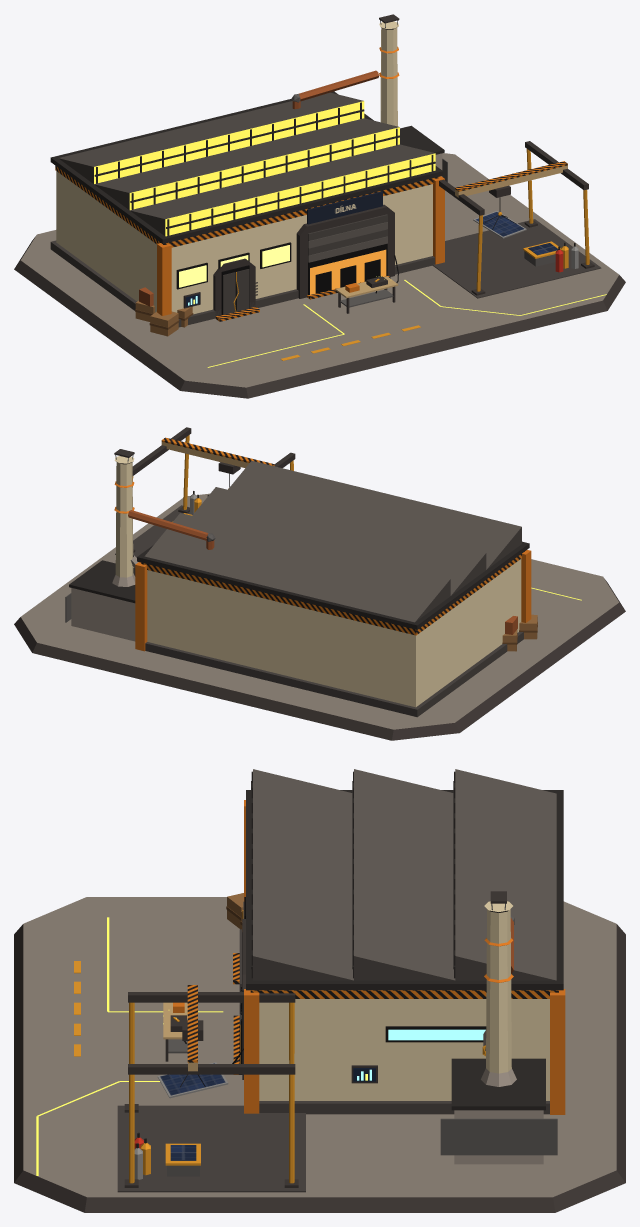
File: budova-dilna.glb
The picture shows the model from 3 angles, top to bottom: view 1: azimuth 30°, elevation 25°; view 2: azimuth 150°, elevation 25°; view 3: azimuth 270°, elevation 25°; orthographic projection. The views are drawn at different scales.
Parts seen in each view (by area): view 1: budova-dilna; view 2: budova-dilna; view 3: budova-dilna.
Part boxes in pixels (left/top/right/bottom): budova-dilna: left=14, top=14, right=625, bottom=398; budova-dilna: left=14, top=427, right=625, bottom=740; budova-dilna: left=14, top=769, right=625, bottom=1212.
Bounding box in the file's own units: 23.25 × 8.93 × 19.5.
29 materials, 3 textured.
